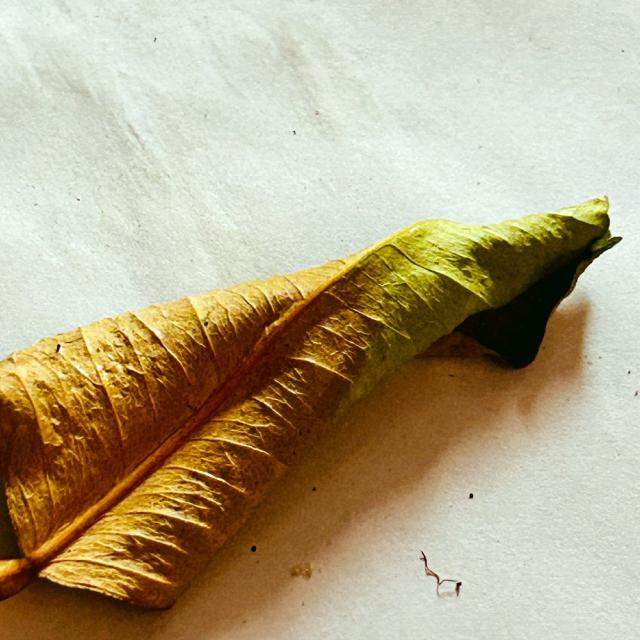DryLeaf_Lemon: (0, 241, 390, 611)
